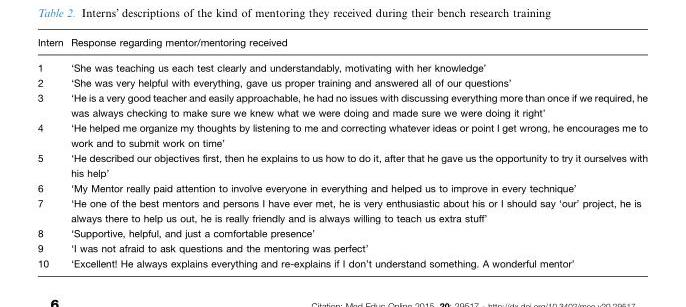table: (37, 37, 647, 268)
table column: (66, 37, 647, 268), (37, 37, 66, 268)
table column header: (37, 37, 647, 55)
table row: (37, 90, 647, 120), (37, 120, 647, 150), (37, 150, 647, 180), (37, 195, 647, 225), (37, 55, 647, 75), (37, 37, 647, 55), (37, 75, 647, 90), (37, 180, 647, 195), (37, 225, 647, 240), (37, 240, 647, 255), (37, 255, 647, 268)
